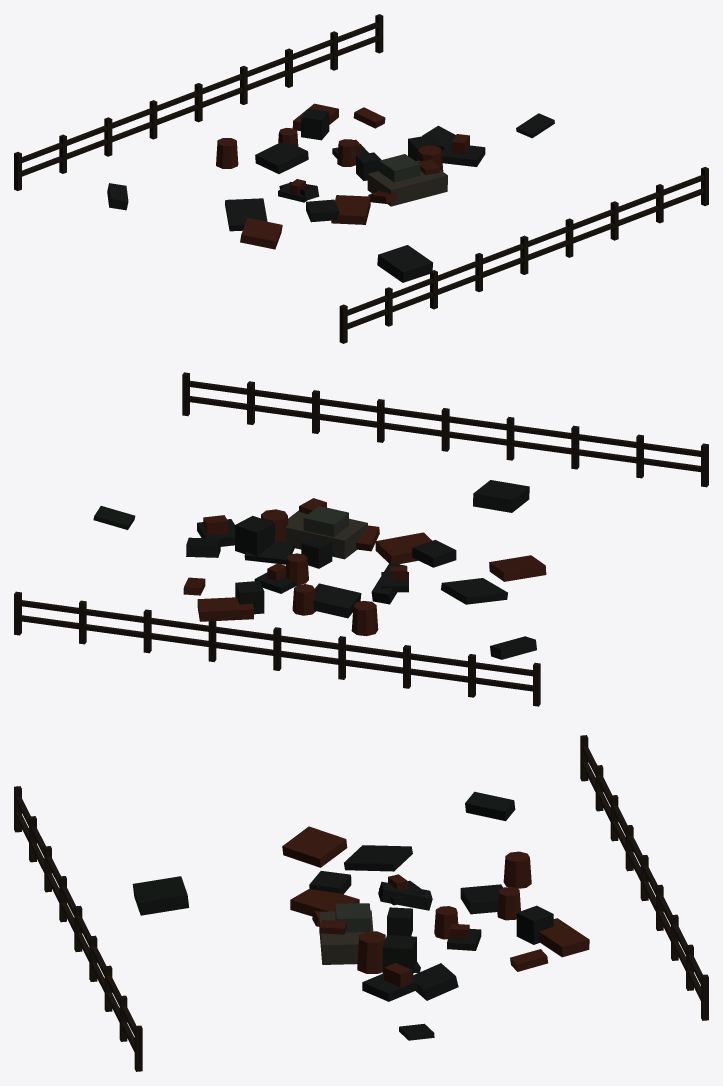
File: landmark_scrap_yard.obj
3 renders of one model, top to bottom at view 1: azimuth 30°, elevation 25°; view 2: azimuth 150°, elevation 25°; view 3: azimuth 270°, elevation 25°, orthographic. The views are drawn at different scales.
Parts seen in each view (by area): view 1: MilitaryStructure3, ironStructure_0042, ironStructure_0013, ironStructure_0032, redStructure_0002, redStructure_001, crateInstances_001, iron_box3, metalStructure_0003, barrelInstances_001, metalStructure_003, crateInstances_002; view 2: MilitaryStructure3, ironStructure_0042, crateInstances_000, ironStructure_0032, ironStructure_0013, redStructure_003, redStructure_0002, redStructure_001, metalStructure_0003, barrelInstances_001, crateInstances_002, crateInstances_001 (+8 smaller); view 3: MilitaryStructure3, ironStructure_0042, redStructure_0002, ironStructure_0032, redStructure_003, redStructure_001, ironStructure_0003, crateInstances_000, barrelInstances_0002, ironStructure_0023, crateInstances_001, ironStructure_0013 (+9 smaller).
Part boxes in pixels (<box>): MilitaryStructure3: <box>367,154,447,206</box>; ironStructure_0042: <box>377,245,432,282</box>; ironStructure_0013: <box>255,142,308,173</box>; ironStructure_0032: <box>225,198,267,231</box>; redStructure_0002: <box>240,217,282,249</box>; redStructure_001: <box>331,195,370,224</box>; crateInstances_001: <box>301,108,329,140</box>; iron_box3: <box>442,143,485,166</box>; metalStructure_0003: <box>306,199,339,222</box>; barrelInstances_001: <box>216,138,238,168</box>; metalStructure_003: <box>516,113,554,138</box>; crateInstances_002: <box>356,152,381,180</box>; MilitaryStructure3: <box>285,498,367,559</box>; ironStructure_0042: <box>473,480,529,512</box>; crateInstances_000: <box>235,515,274,556</box>; ironStructure_0032: <box>441,578,507,604</box>; ironStructure_0013: <box>313,583,361,618</box>; redStructure_003: <box>197,597,253,621</box>; redStructure_0002: <box>489,555,546,581</box>; redStructure_001: <box>375,532,432,564</box>; metalStructure_0003: <box>412,540,456,567</box>; barrelInstances_001: <box>351,601,378,636</box>; crateInstances_002: <box>301,535,332,568</box>; crateInstances_001: <box>235,581,264,614</box>; MilitaryStructure3: <box>319,903,373,964</box>; ironStructure_0042: <box>132,876,189,915</box>; redStructure_0002: <box>282,826,347,867</box>; ironStructure_0032: <box>344,845,412,871</box>; redStructure_003: <box>539,918,589,957</box>; redStructure_001: <box>290,888,359,916</box>; ironStructure_0003: <box>412,963,458,1000</box>; crateInstances_000: <box>382,935,416,975</box>; barrelInstances_0002: <box>357,931,385,973</box>; ironStructure_0023: <box>465,791,515,821</box>; crateInstances_001: <box>516,905,553,944</box>; ironStructure_0013: <box>460,884,503,914</box>.
Size of the model in its own units: 16.8 by 1.37 by 16.8.
